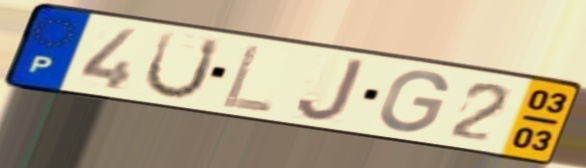2: (445, 81, 513, 144)
4: (75, 26, 141, 91)
G: (376, 68, 452, 135)
J: (294, 56, 369, 124)
L: (217, 41, 278, 115)
U: (140, 29, 226, 101)
